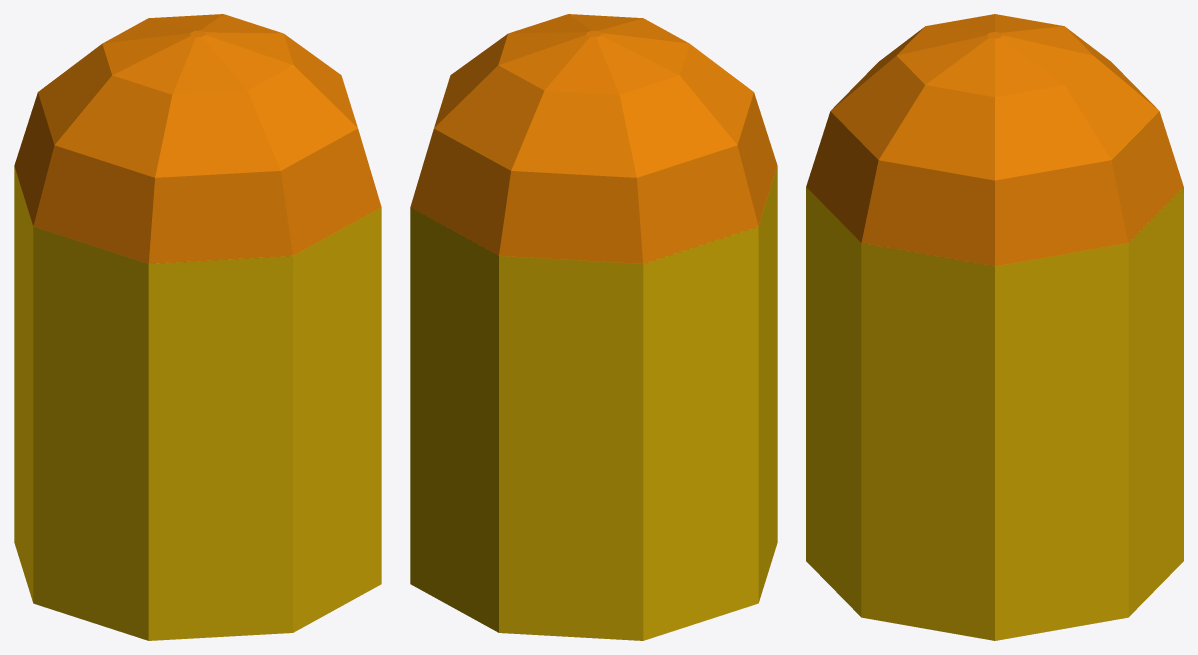
The model's file is Bala Moderna.fbx.
3 views of the same model, side by side, from view 1: azimuth 30°, elevation 25°; view 2: azimuth 150°, elevation 25°; view 3: azimuth 270°, elevation 25° (orthographic).
Parts seen in each view (by area): view 1: Bala; view 2: Bala; view 3: Bala.
Boxes of the visible parts, bbox=[...] form: Bala: bbox=[14, 14, 381, 640]; Bala: bbox=[410, 14, 777, 640]; Bala: bbox=[806, 14, 1183, 640].
Size of the model in its own units: 200 by 307 by 200.
Materials: 1 (1 with a texture image).
